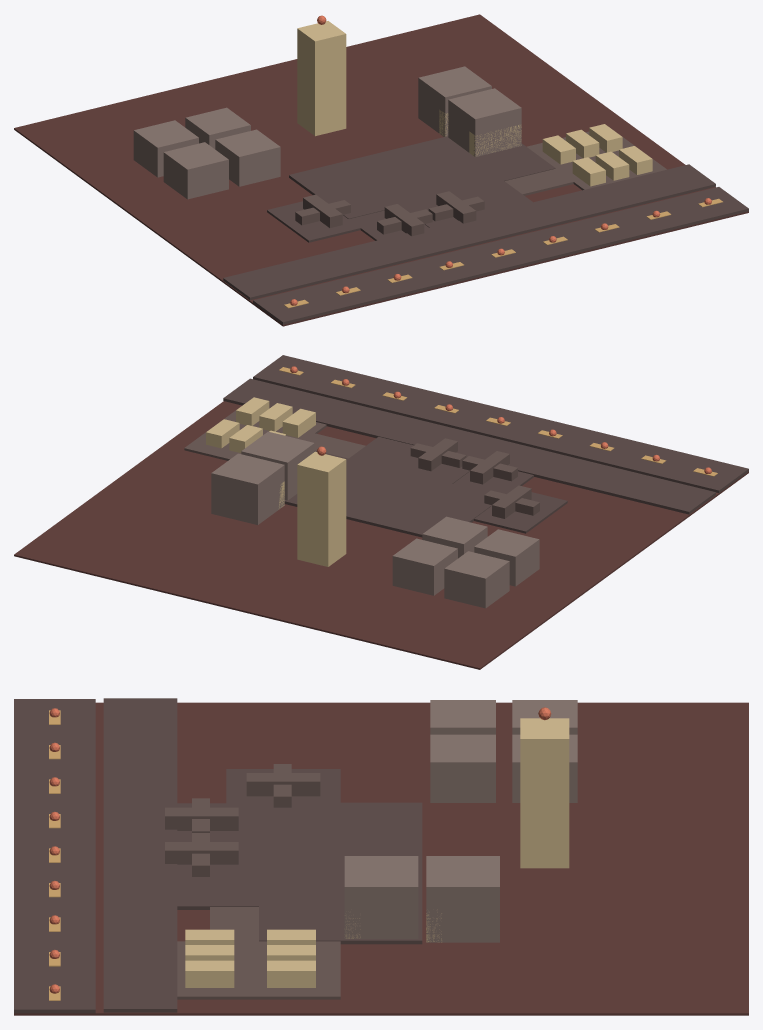
Rendered from stage_18.glb.
3 views of the same model, one above another, from view 1: azimuth 30°, elevation 25°; view 2: azimuth 150°, elevation 25°; view 3: azimuth 270°, elevation 25° (orthographic). The views are drawn at different scales.
Visible parts, largest first — view 1: geometry_0; view 2: geometry_0; view 3: geometry_0.
Boxes of the visible parts, left/top/right/bottom form: geometry_0: left=14, top=14, right=748, bottom=326; geometry_0: left=14, top=355, right=748, bottom=669; geometry_0: left=14, top=698, right=748, bottom=1015.
Bounding box in the file's own units: 9 × 2.06 × 9.
